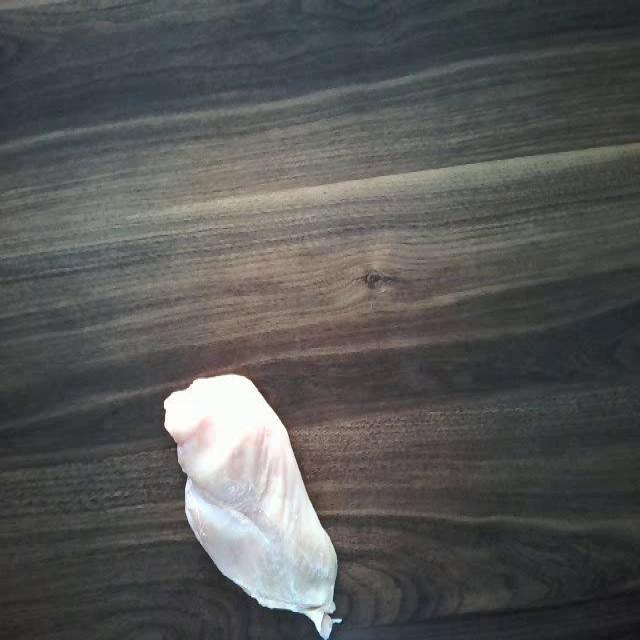breast: (163, 382, 346, 628)
